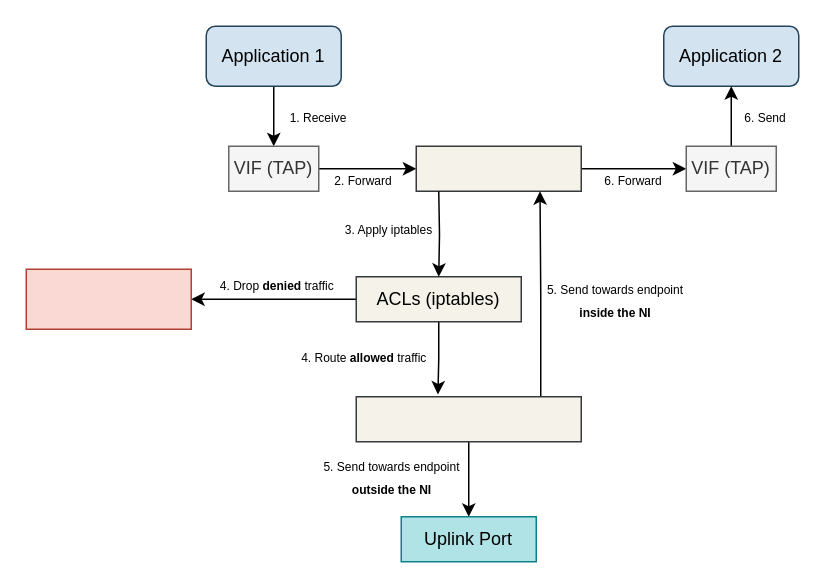
Image size: 830x588. Some labels were removed from this diagram. The shapes that lost their labels are listed below. From the top down, each one's centre as x and y in pixels, then its label:
the point at 498,168: NI Bridge
the point at 108,298: Blackhole (dummy intf.)
the point at 468,418: NI Routing Table
